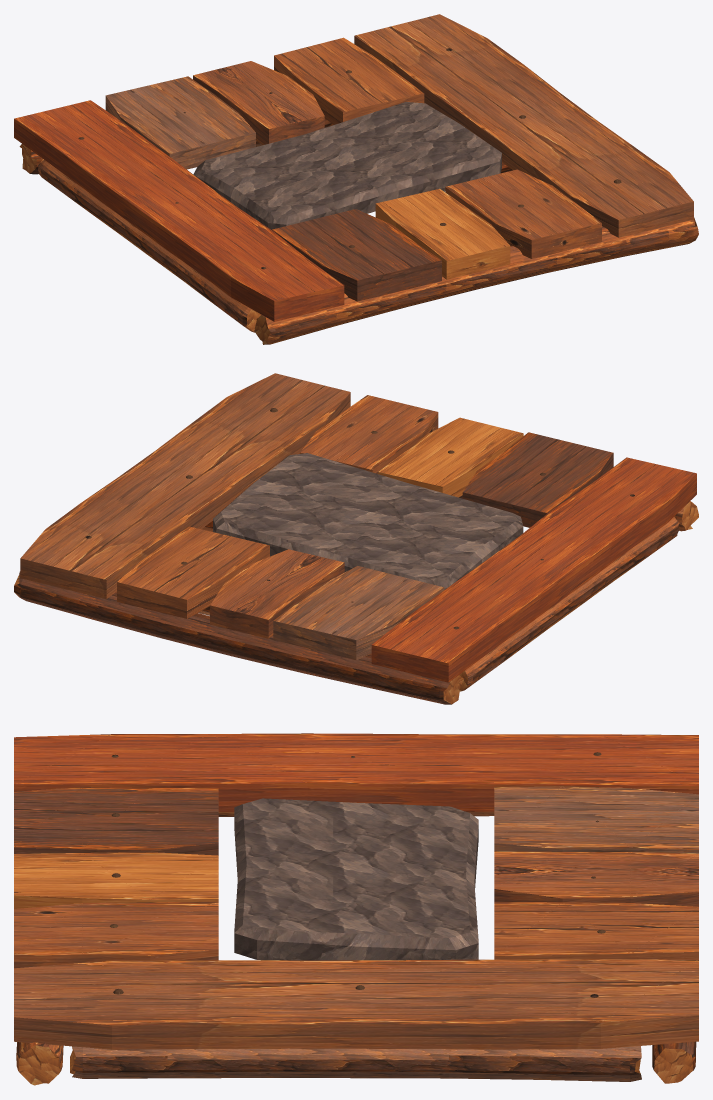
File: floor_loose_stone.glb
The picture shows the model from 3 angles, top to bottom: view 1: azimuth 30°, elevation 25°; view 2: azimuth 150°, elevation 25°; view 3: azimuth 270°, elevation 25°; orthographic projection. The views are drawn at different scales.
Visible parts, largest first — view 1: frame, stone; view 2: frame, stone; view 3: frame, stone.
Part boxes in pixels (x1=…): frame: x1=14, y1=14, x2=698, y2=344; stone: x1=193, y1=102, x2=501, y2=229; frame: x1=14, y1=373, x2=698, y2=704; stone: x1=213, y1=453, x2=523, y2=589; frame: x1=14, y1=733, x2=698, y2=1085; stone: x1=234, y1=798, x2=478, y2=960.
Bounding box in the file's own units: 1.99 × 0.275 × 1.99.
21 materials, 21 textured.
